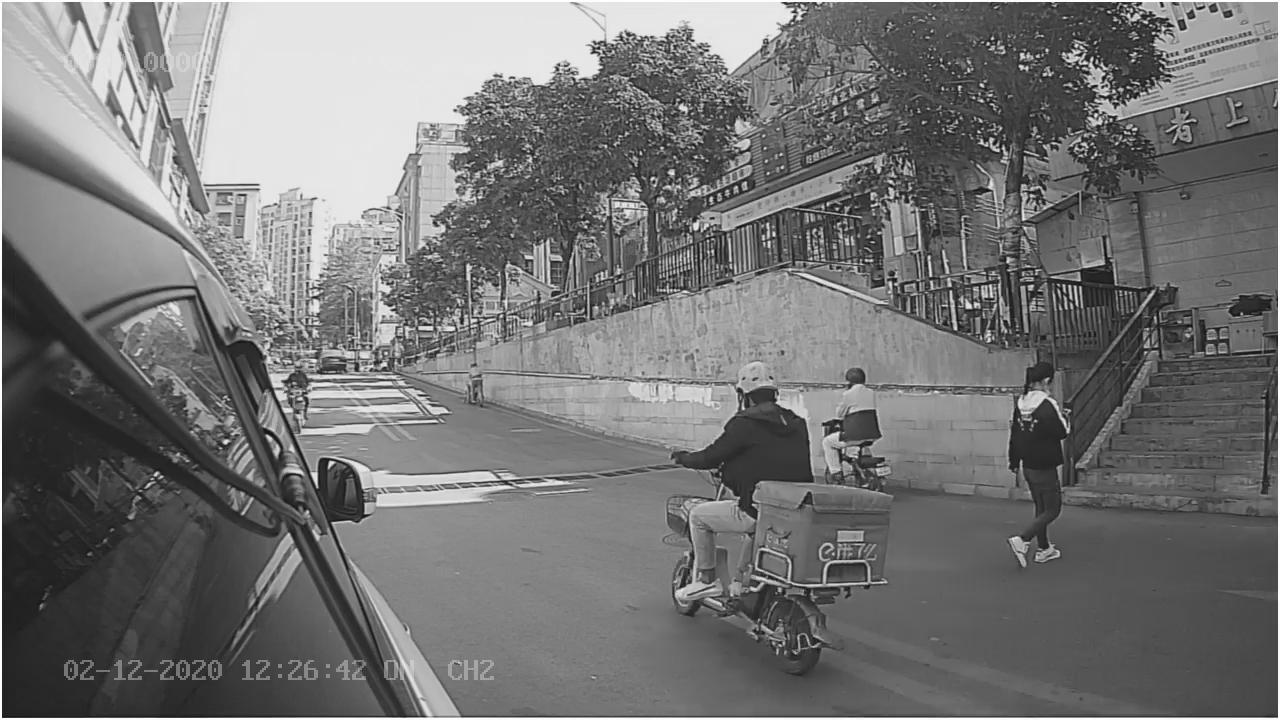person: (990, 360, 1089, 573), (666, 348, 818, 480)
